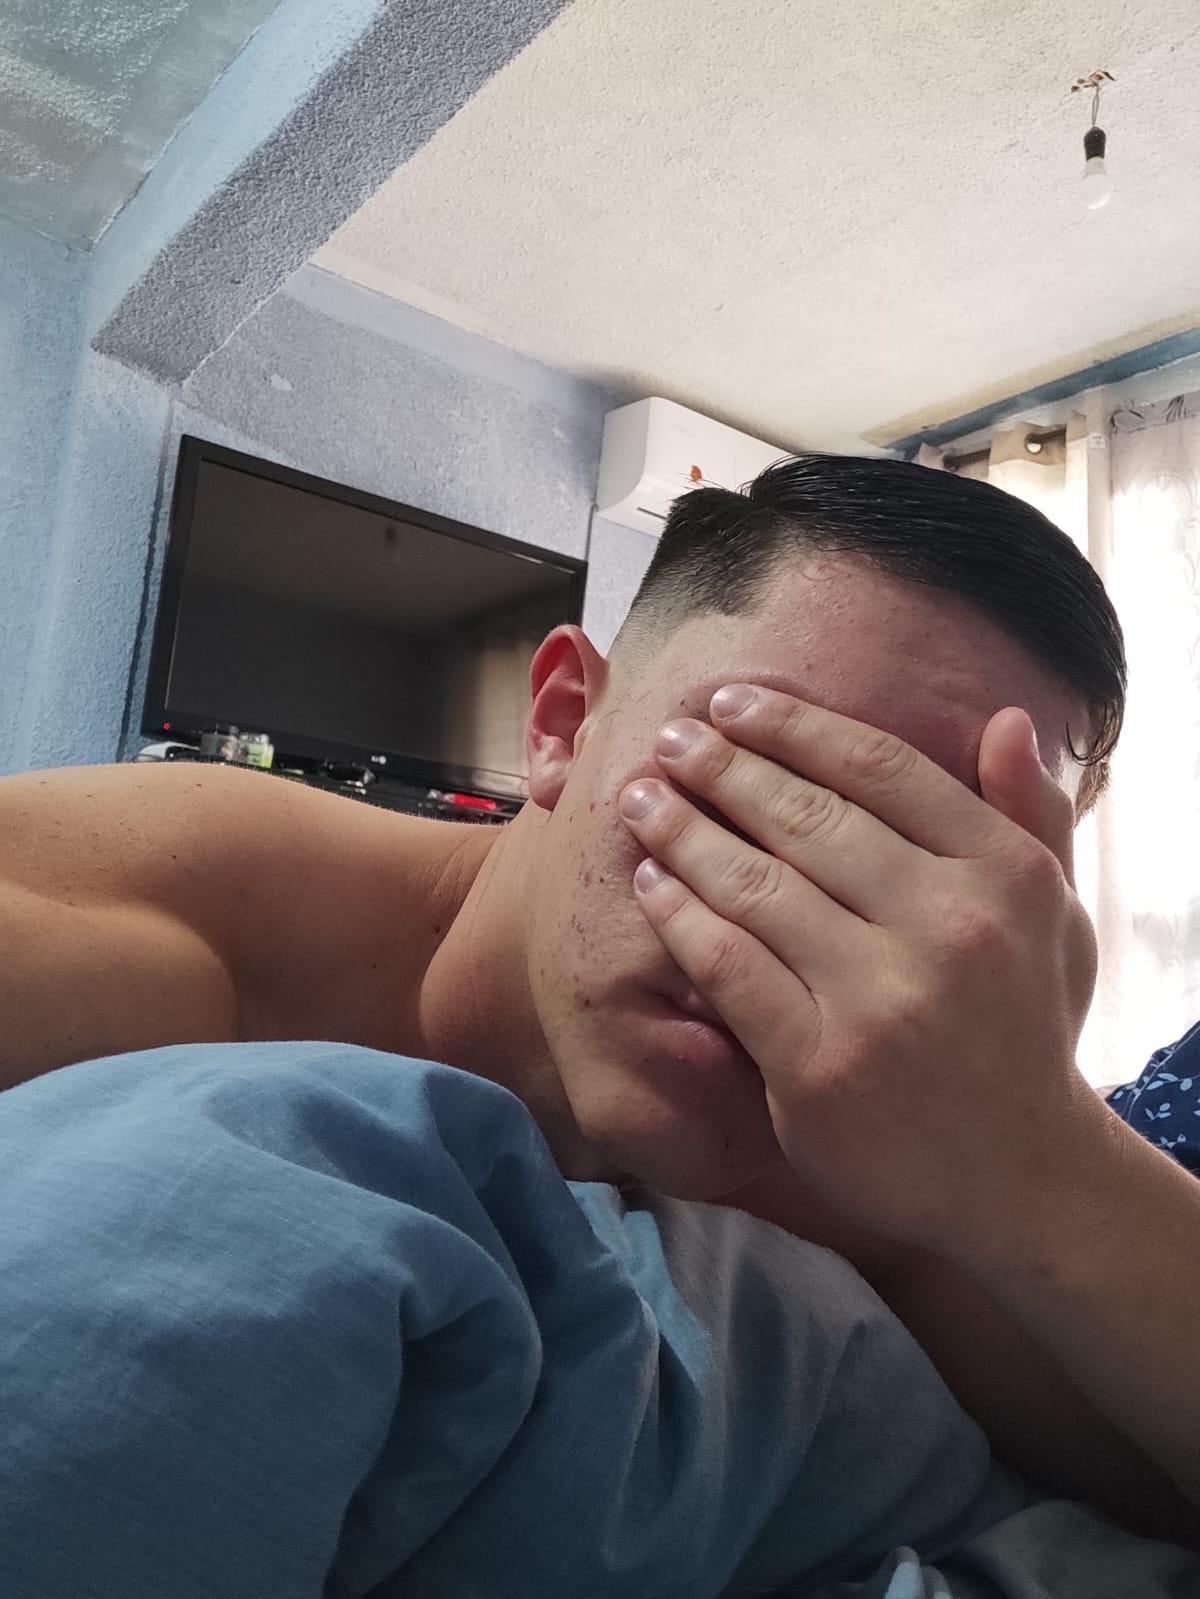Paper: (592, 633, 1124, 1274)
